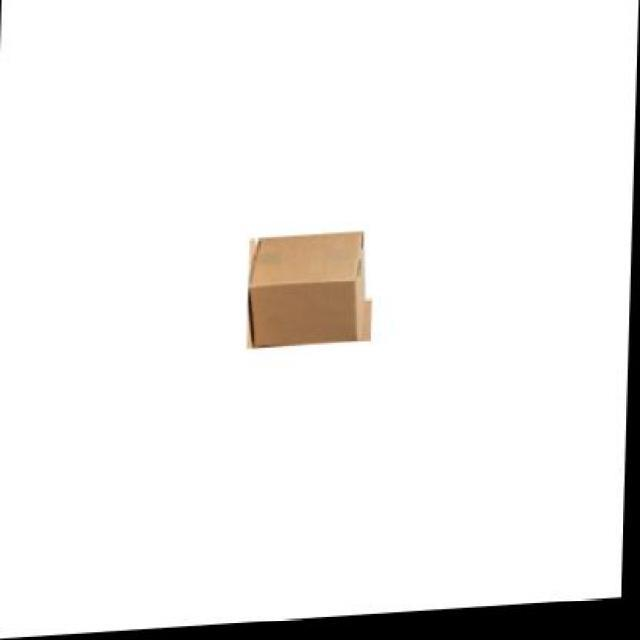box: (251, 236, 370, 350)
